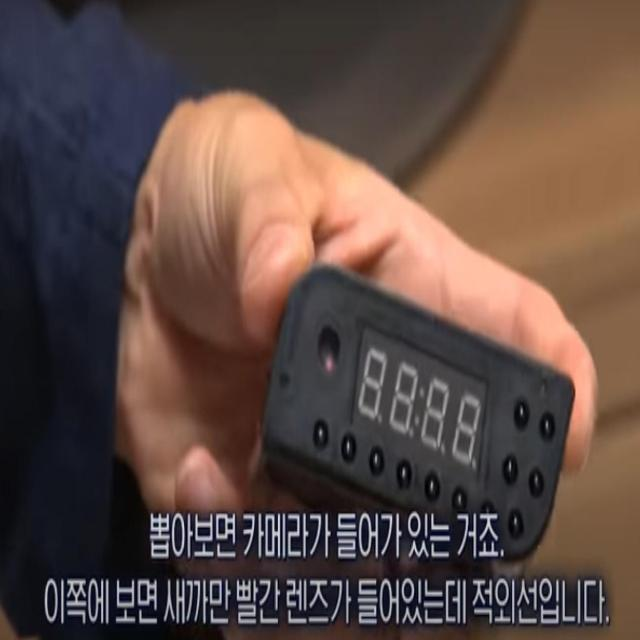hidden camera: (318, 325, 341, 370)
